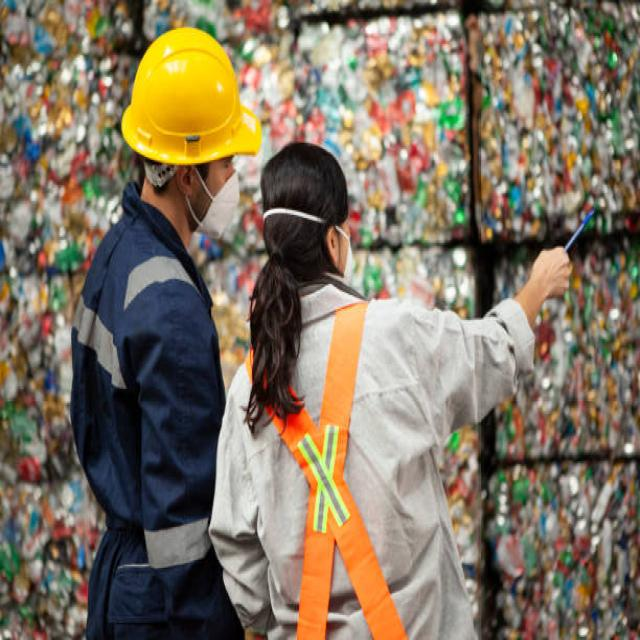metal: (1, 13, 100, 632), (367, 6, 633, 231), (492, 428, 640, 636)
